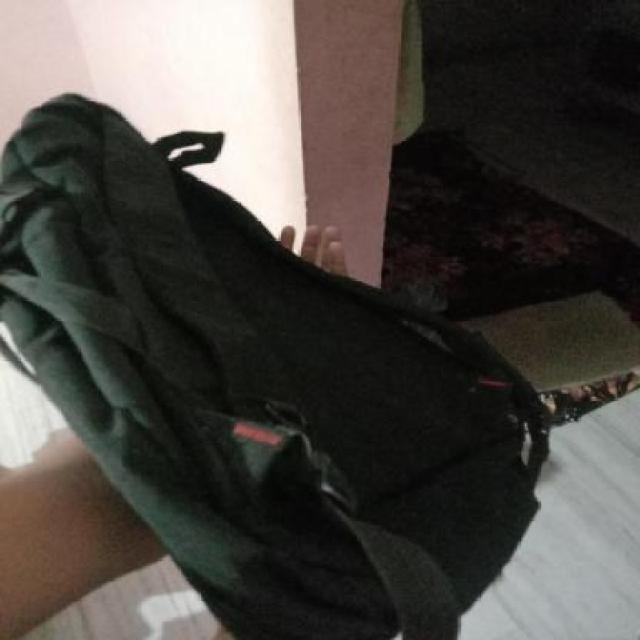backpack: (0, 75, 571, 640)
